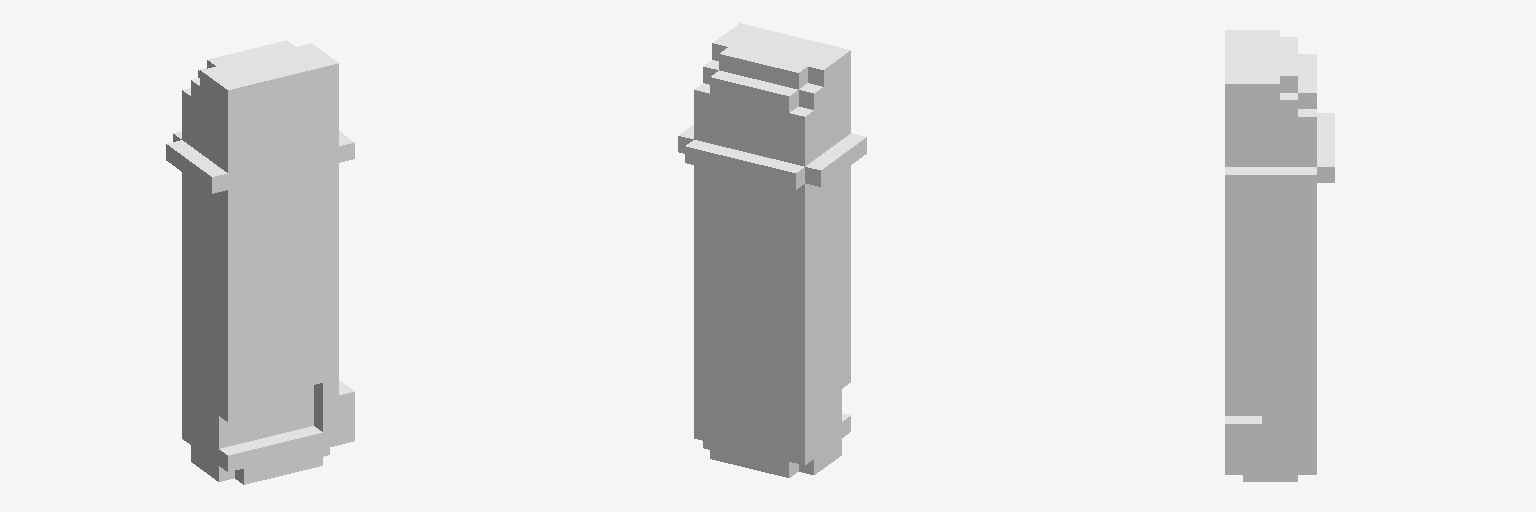
The model's file is maxim-2.obj.
The picture shows the model from 3 angles: view 1: azimuth 30°, elevation 25°; view 2: azimuth 150°, elevation 25°; view 3: azimuth 270°, elevation 25°; orthographic projection.
Parts seen in each view (by area): view 1: object 1; view 2: object 1; view 3: object 1.
Part boxes in pixels (x1,y1,x2,y2): object 1: (166,40,354,484); object 1: (678,23,866,477); object 1: (1225,30,1334,481).
Bounding box in the file's own units: 0.9 × 2.4 × 0.6.